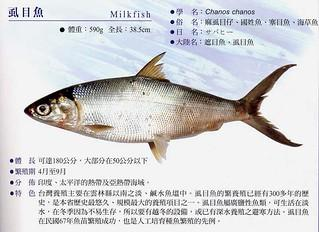Bangus: (29, 54, 302, 165)
